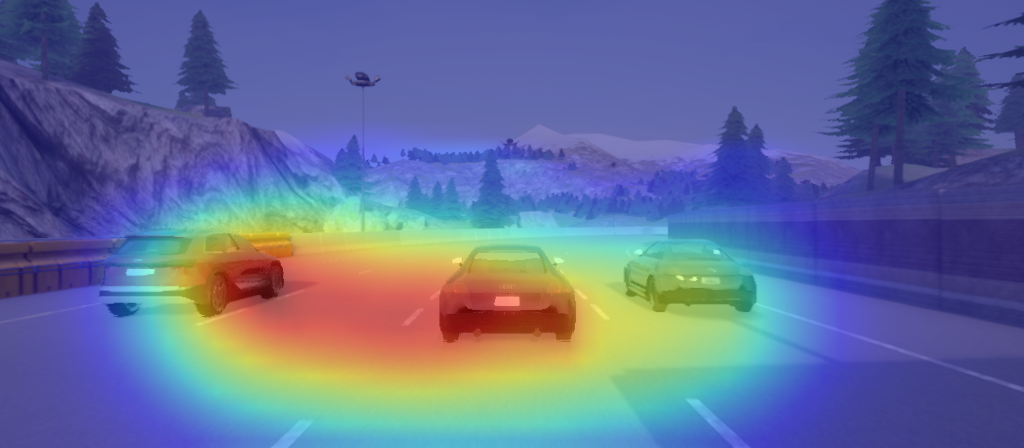barrier: (739, 213, 1015, 266), (7, 244, 103, 282)
car: (93, 227, 291, 322), (434, 241, 582, 350), (620, 236, 766, 316)
lane marker: (681, 391, 755, 448), (266, 416, 318, 448), (585, 298, 618, 329), (399, 305, 428, 331), (353, 265, 373, 278)
light pole: (342, 67, 384, 232)
